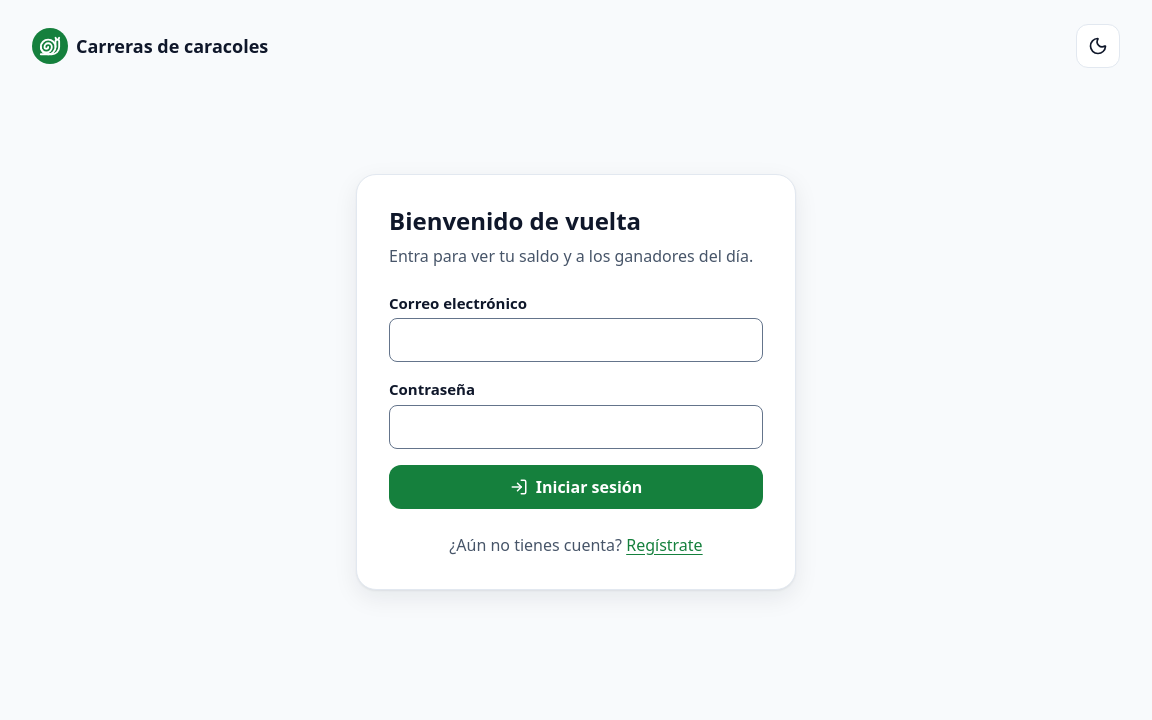
Test: registro, sesión y guards (mínimos de validez) › credenciales incorrectas muestran un error genérico y no dejan entrar
The width and height of the screenshot is (1152, 720).
Type "nadie@example.com" into the field labelled "Correo electrónico" at x=576, y=340, box [389,318,763,362]
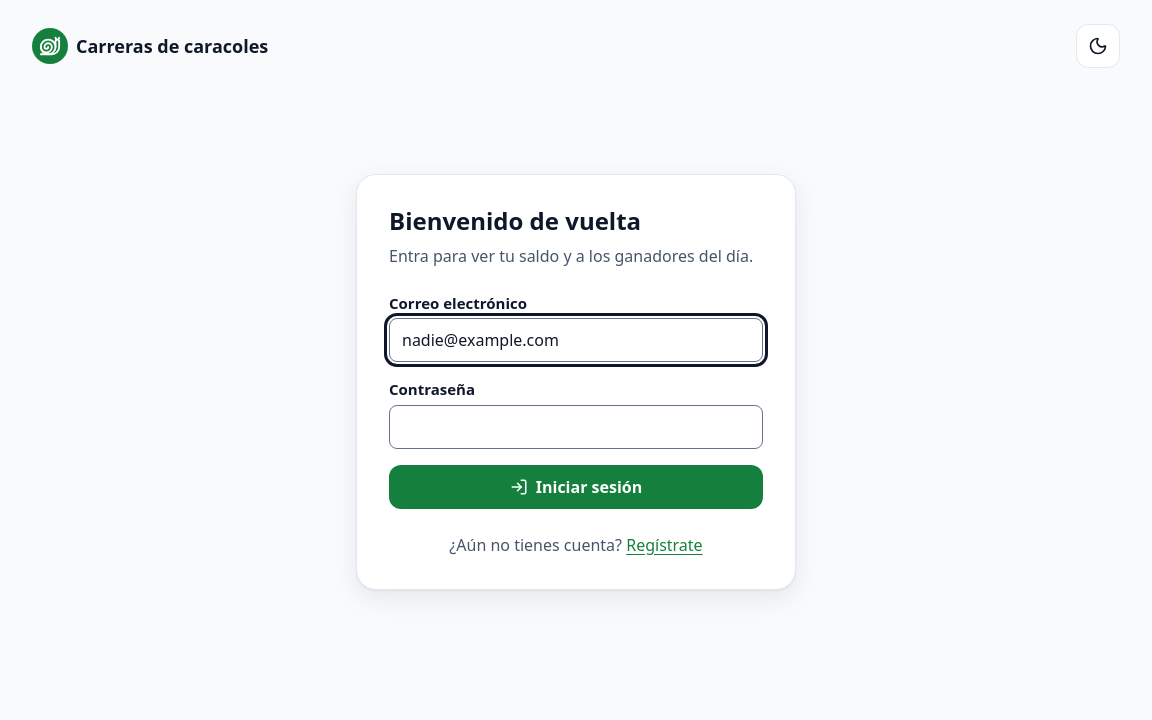
Type "Caracol123" into the password field labelled "Contraseña" at x=576, y=427, box [389,405,763,449]
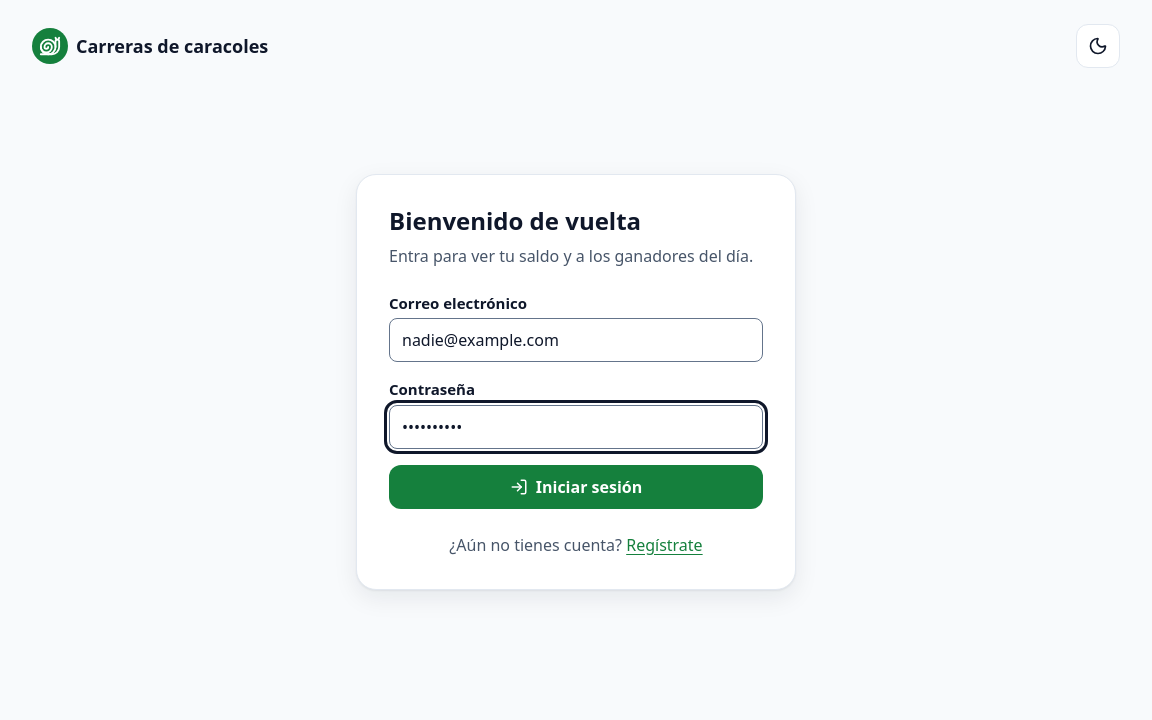
Click the button "Iniciar sesión" at x=576, y=487, box [389,465,763,509]
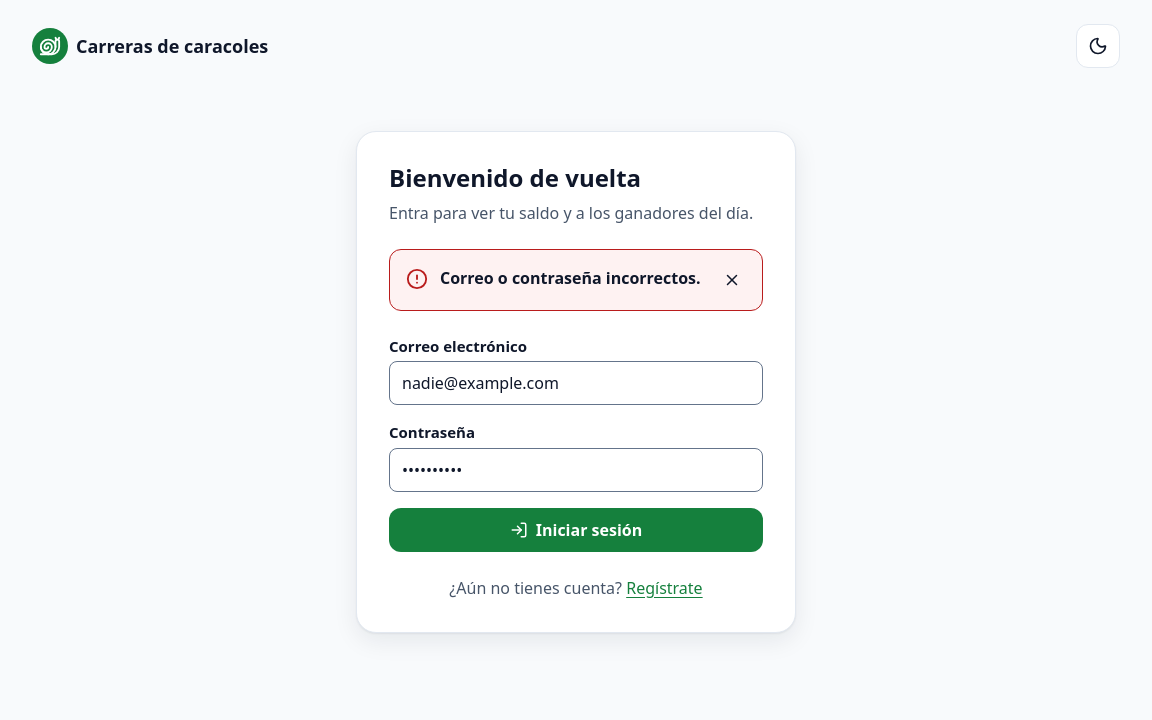
Expected: the message reads "Correo o contraseña incorrectos.", [440,267,701,289]
